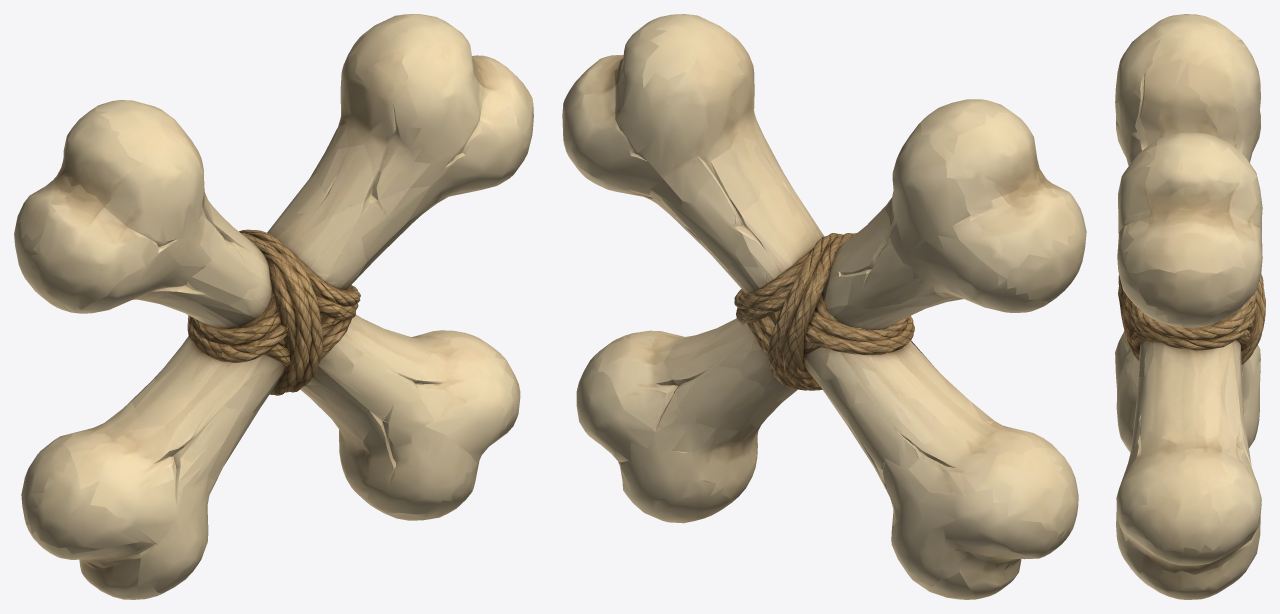
Rendered from mat_bone.glb.
The picture shows the model from 3 angles, left to right: view 1: azimuth 30°, elevation 25°; view 2: azimuth 150°, elevation 25°; view 3: azimuth 270°, elevation 25°; orthographic projection. The views are drawn at different scales.
Parts seen in each view (by area): view 1: output_unwrapped; view 2: output_unwrapped; view 3: output_unwrapped.
Boxes of the visible parts, bbox=[...] form: output_unwrapped: bbox=[14, 14, 533, 599]; output_unwrapped: bbox=[562, 14, 1086, 599]; output_unwrapped: bbox=[1115, 14, 1265, 599].
Bounding box in the file's own units: 1.9 × 1.82 × 0.5372.
1 material, 1 textured.
